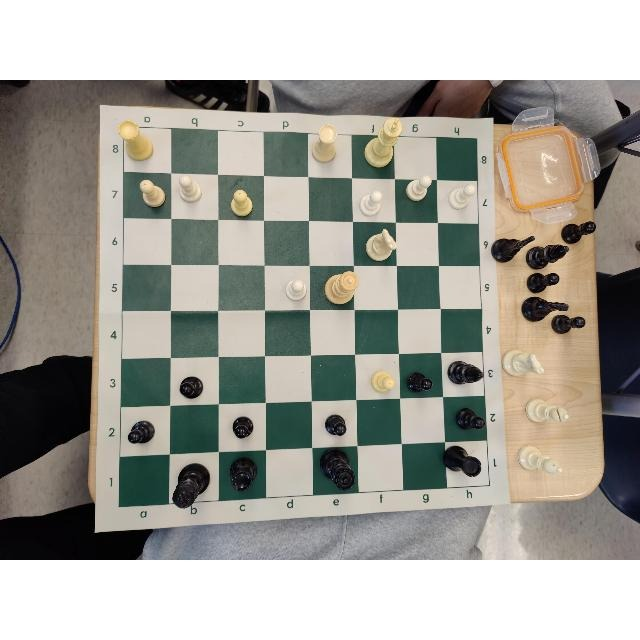black-bishop: (448, 360, 484, 387)
black-king: (172, 463, 211, 509)
black-pawn: (456, 408, 486, 431), (128, 421, 155, 444), (180, 376, 204, 399), (406, 371, 431, 392), (324, 412, 346, 435), (232, 415, 252, 438)
black-queen: (319, 449, 354, 491)
black-rook: (444, 445, 482, 478), (230, 457, 258, 491)
white-king: (363, 119, 402, 167)
white-knight: (366, 228, 396, 261)
white-pawn: (139, 179, 165, 207), (448, 184, 475, 210), (178, 175, 202, 203), (229, 189, 252, 217), (406, 177, 432, 201), (370, 370, 395, 394), (360, 190, 382, 216), (285, 279, 307, 300)
white-queen: (324, 271, 359, 305)
white-rook: (119, 120, 153, 162), (313, 123, 337, 163)
